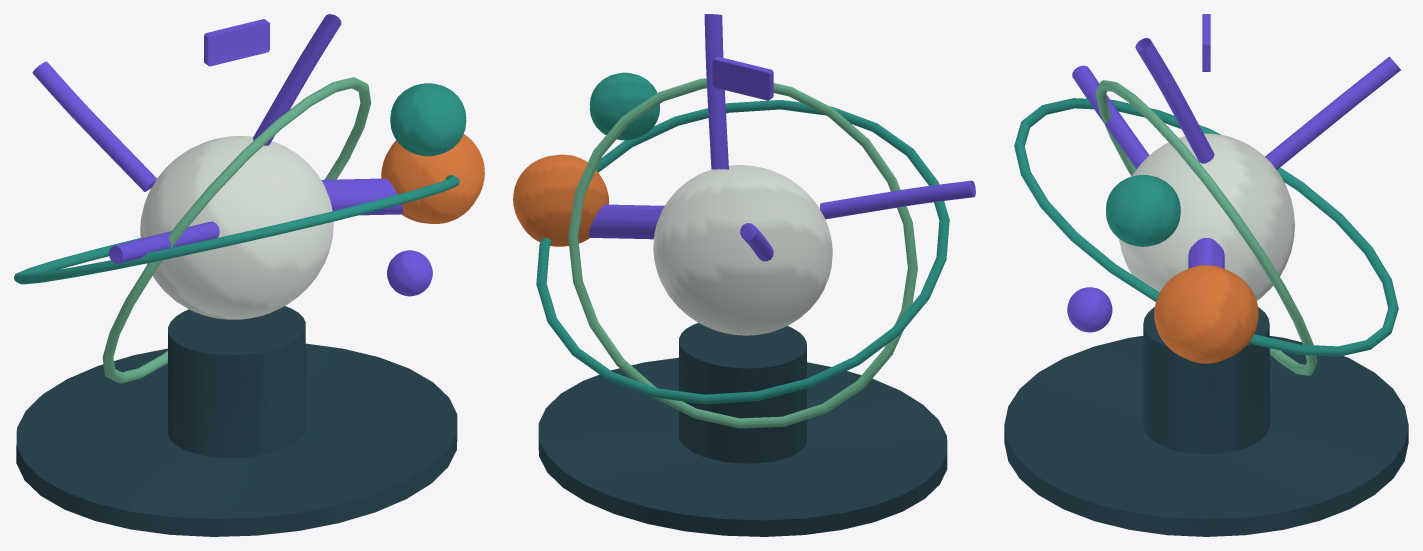
File: 0505_生活中的化学图鉴_门捷列夫元素周期表.glb
The picture shows the model from 3 angles, left to right: view 1: azimuth 30°, elevation 25°; view 2: azimuth 150°, elevation 25°; view 3: azimuth 270°, elevation 25°; orthographic projection. The views are drawn at different scales.
Parts seen in each view (by area): view 1: card_0505; view 2: card_0505; view 3: card_0505.
Part boxes in pixels (x1=…): card_0505: x1=14, y1=14, x2=484, y2=536; card_0505: x1=513, y1=14, x2=975, y2=536; card_0505: x1=1004, y1=14, x2=1408, y2=536.
Bounding box in the file's own units: 1.06 × 1 × 0.8464.
